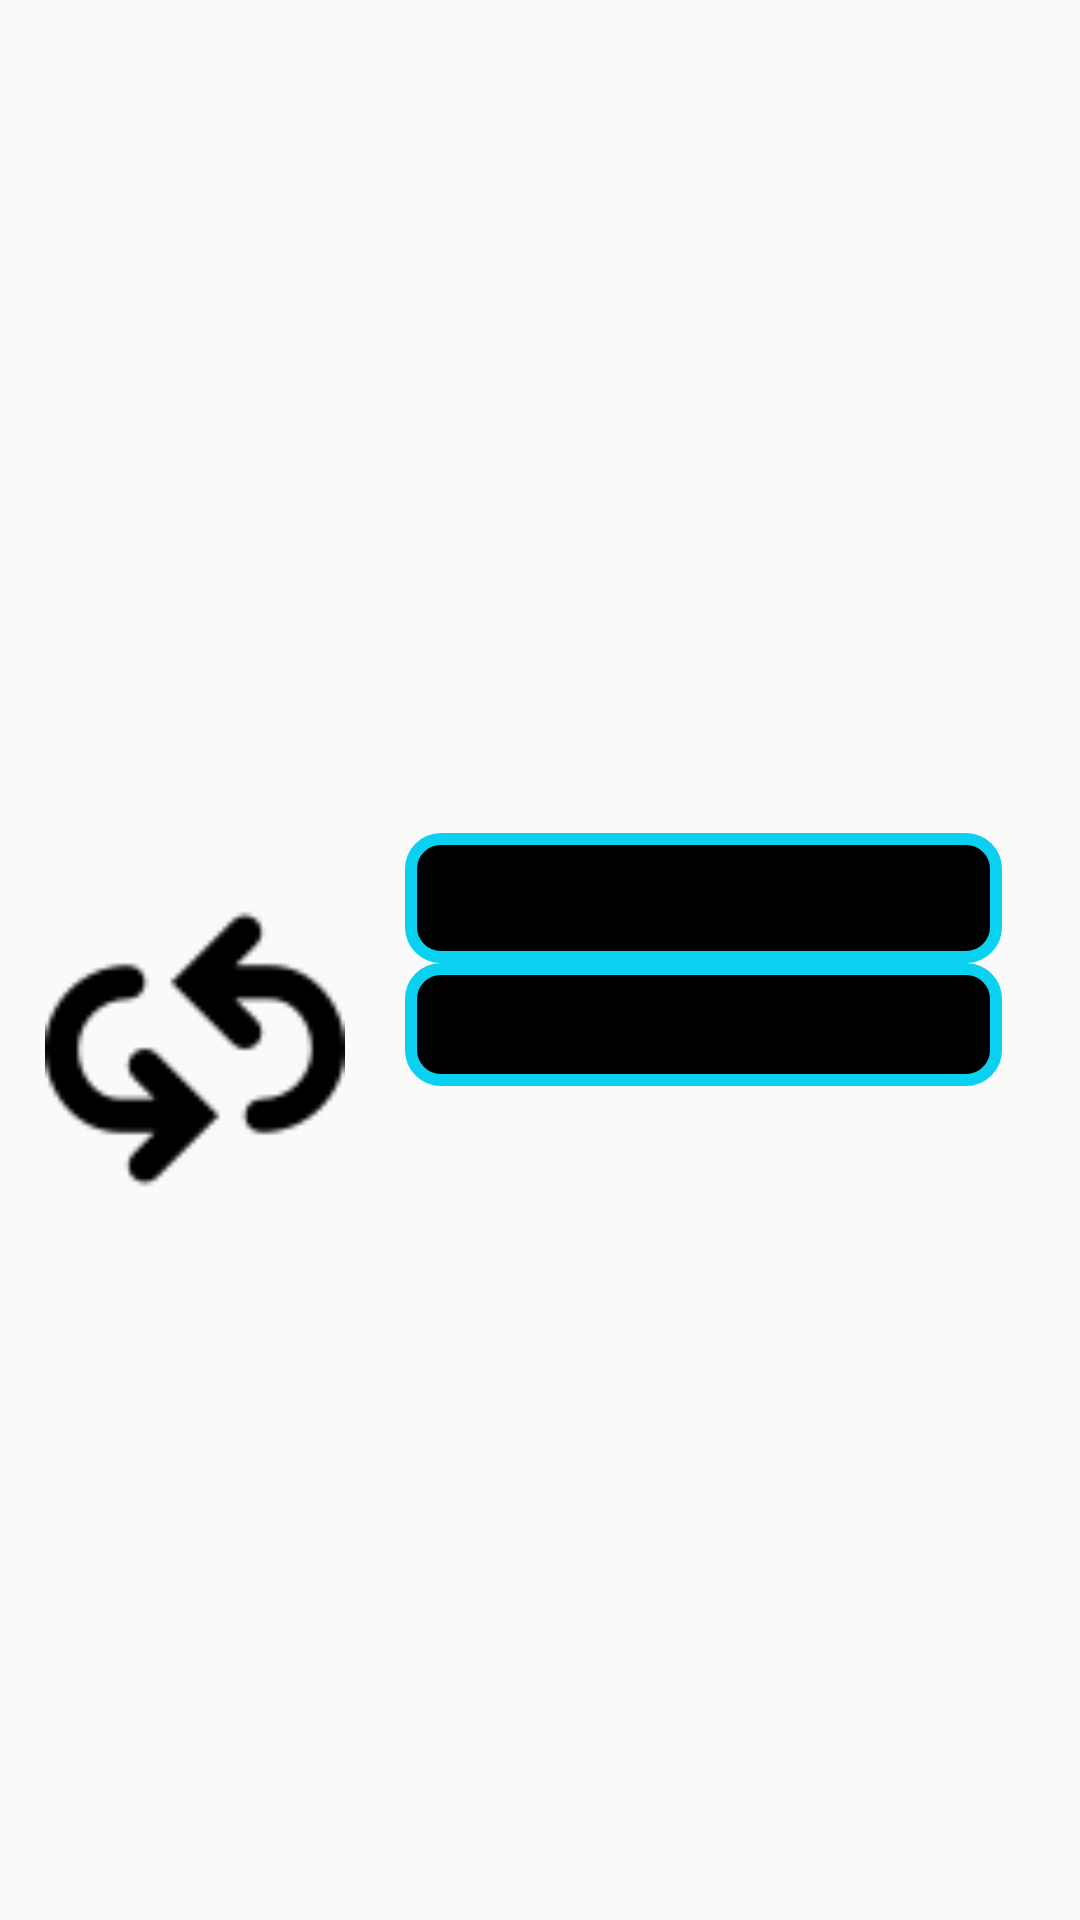

Point at icon controls on the screen. Image size 1080px x 1920px, points as (x=x, y=y).
repeat: (x=195, y=1049)
